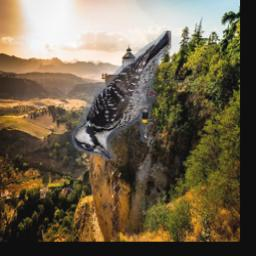Woodpecker: (72, 31, 171, 160)
